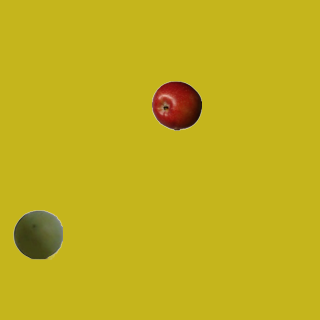Apple Braeburn: (151, 80, 201, 130)
Grape White 4: (12, 209, 62, 259)
